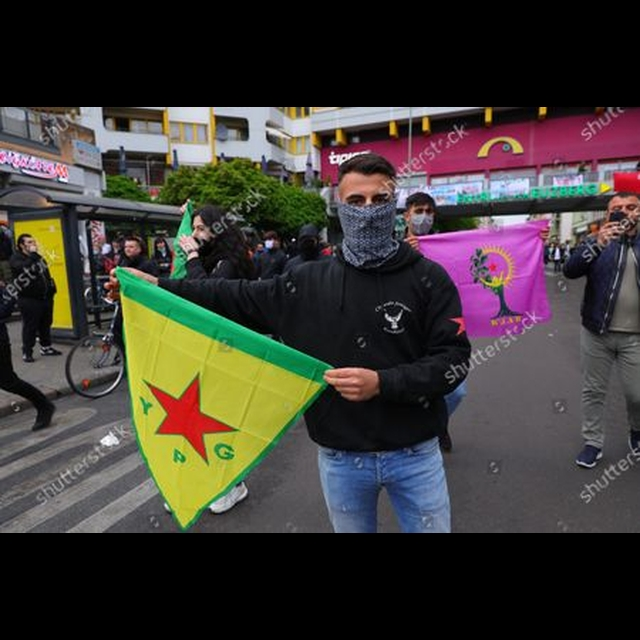YPG: (128, 367, 245, 474)
